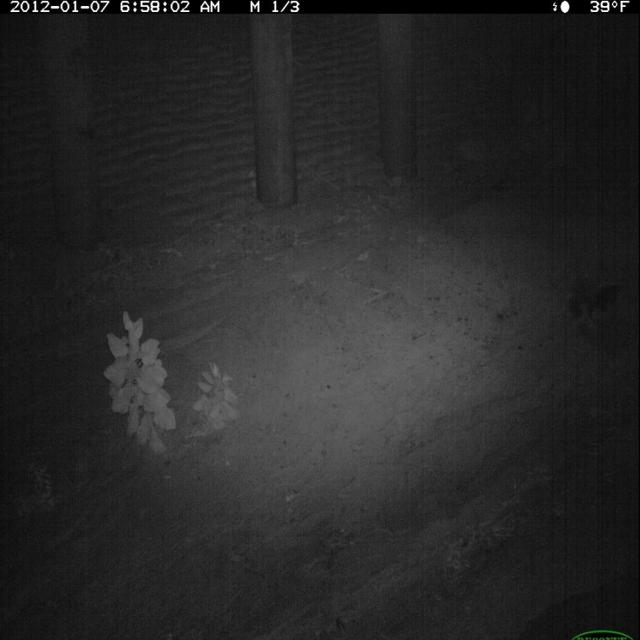skunk: (565, 283, 611, 328)
